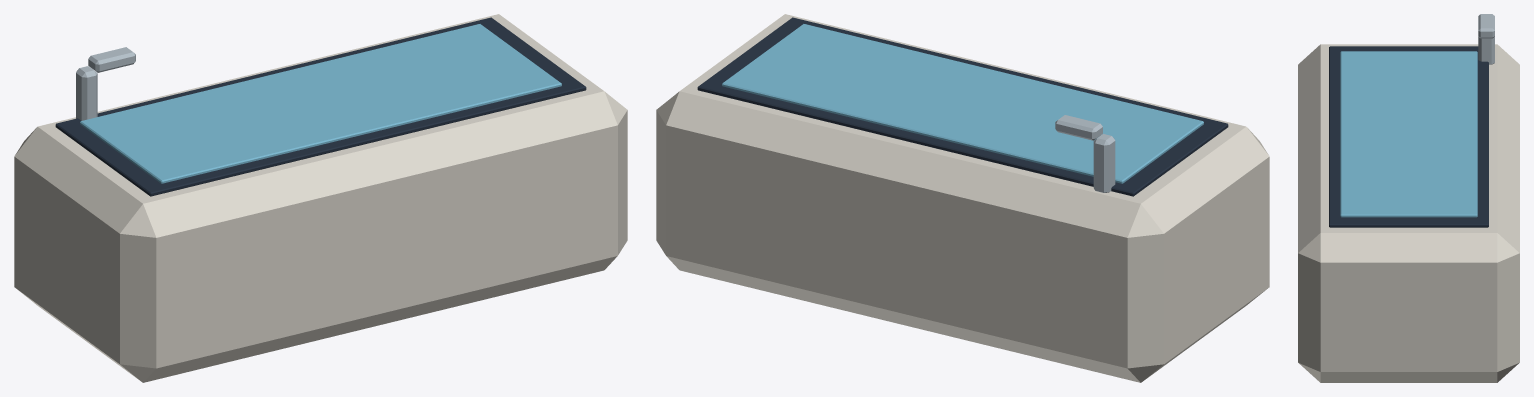
The model's file is utility_05.glb.
3 views of the same model, side by side, from view 1: azimuth 30°, elevation 25°; view 2: azimuth 150°, elevation 25°; view 3: azimuth 270°, elevation 25° (orthographic). The views are drawn at different scales.
Parts seen in each view (by area): view 1: TubBody, Water, TubInside, TapPost, TapMouth; view 2: TubBody, Water, TubInside, TapPost, TapMouth; view 3: TubBody, Water, TubInside, TapPost, TapMouth.
Boxes of the visible parts, bbox=[...] form: TubBody: bbox=[14, 14, 627, 382]; Water: bbox=[80, 24, 561, 183]; TubInside: bbox=[55, 17, 586, 196]; TapPost: bbox=[76, 66, 97, 120]; TapMouth: bbox=[88, 47, 135, 72]; TubBody: bbox=[656, 14, 1269, 382]; Water: bbox=[722, 24, 1203, 183]; TubInside: bbox=[697, 17, 1228, 196]; TapPost: bbox=[1093, 134, 1115, 192]; TapMouth: bbox=[1055, 115, 1102, 140]; TubBody: bbox=[1298, 44, 1519, 382]; Water: bbox=[1340, 51, 1477, 217]; TubInside: bbox=[1329, 46, 1488, 227]; TapPost: bbox=[1478, 37, 1494, 64]; TapMouth: bbox=[1478, 14, 1494, 38].
Size of the model in its own units: 1.75 by 0.79 by 0.79.
